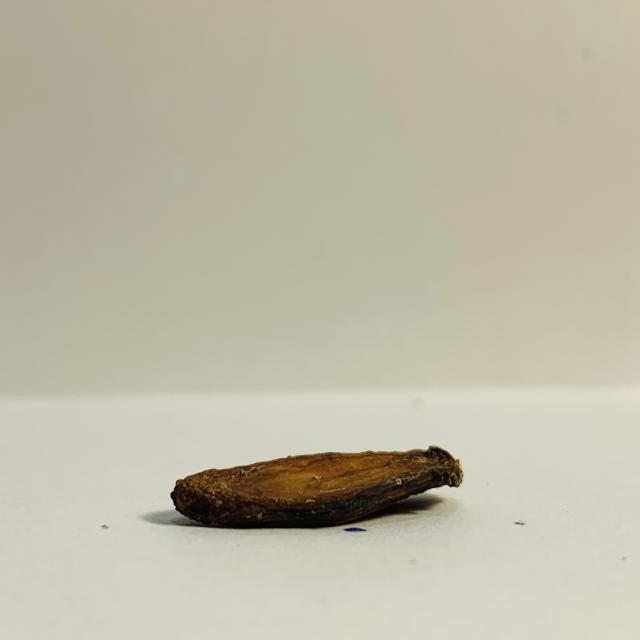Flat_cocoabeans: (126, 401, 559, 544)
